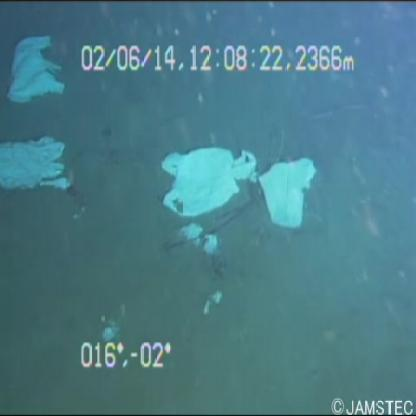Rác: (154, 138, 261, 218), (1, 122, 74, 204), (260, 137, 316, 230), (9, 25, 66, 110)
